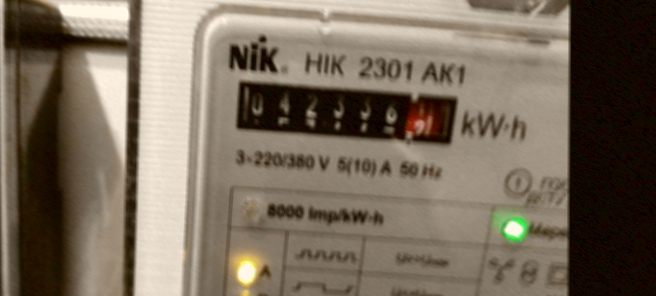0: (250, 88, 263, 117)
2: (302, 90, 320, 117)
3: (329, 90, 345, 119), (358, 92, 372, 120)
4: (276, 89, 292, 116)
6: (383, 98, 398, 125)
screen: (224, 71, 465, 153)
